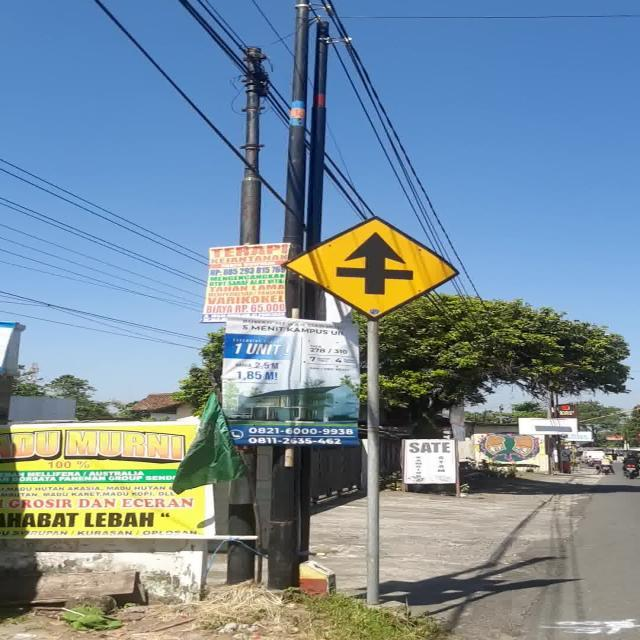Persimpangan 3 Prioritas: (280, 216, 460, 320)
